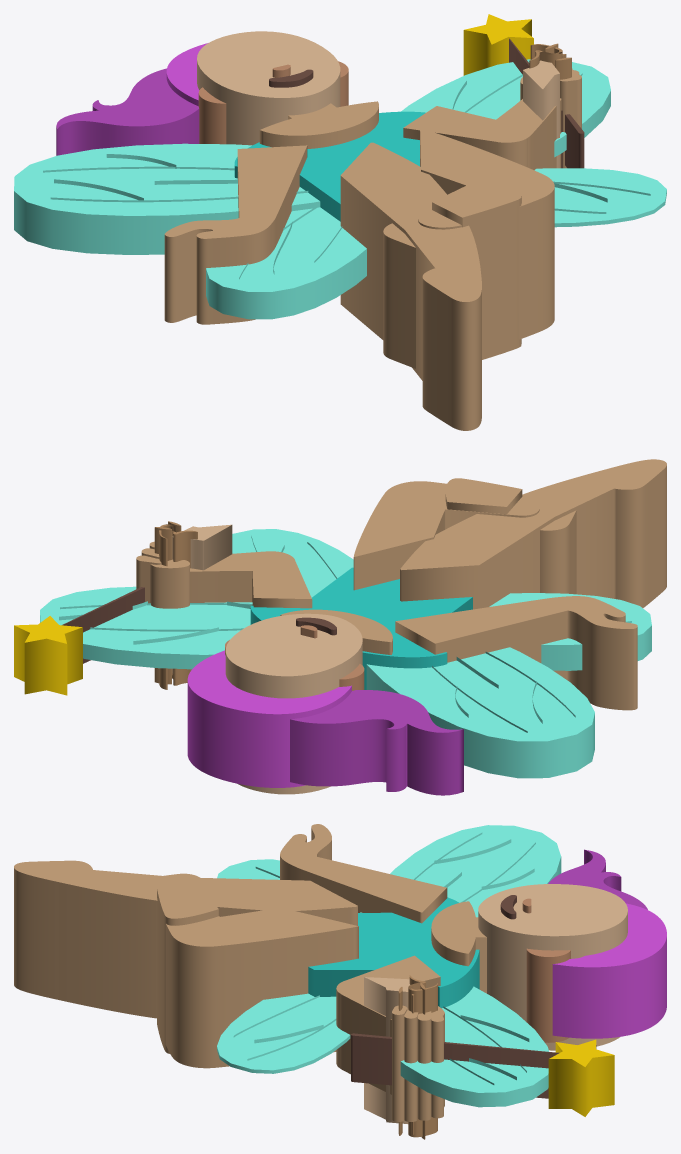
The model's file is emoji_u1f9da_1f3fc_200d_2640.glb.
3 views of the same model, one above another, from view 1: azimuth 30°, elevation 25°; view 2: azimuth 150°, elevation 25°; view 3: azimuth 270°, elevation 25° (orthographic). The views are drawn at different scales.
Visible parts, largest first — view 1: emoji_u1f9da_1f3fc_200d_2640; view 2: emoji_u1f9da_1f3fc_200d_2640; view 3: emoji_u1f9da_1f3fc_200d_2640.
Boxes of the visible parts, x1,y1,x2,y2 form: emoji_u1f9da_1f3fc_200d_2640: (14, 14, 666, 430); emoji_u1f9da_1f3fc_200d_2640: (14, 459, 666, 795); emoji_u1f9da_1f3fc_200d_2640: (14, 824, 666, 1139).
Bounding box in the file's own units: 0.0309 × 0.0084 × 0.0331.
